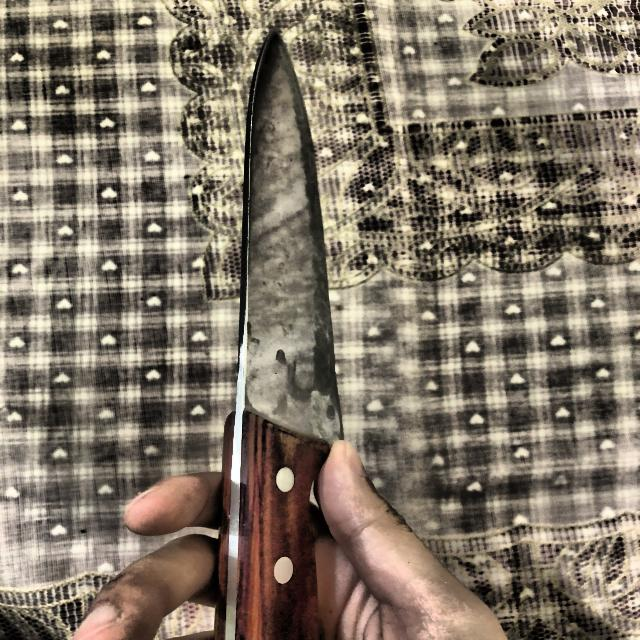knife: (219, 33, 342, 640)
